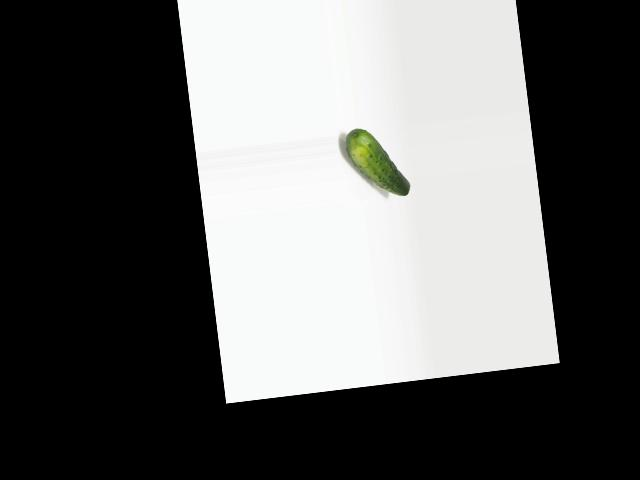cucumber: (344, 123, 410, 202)
